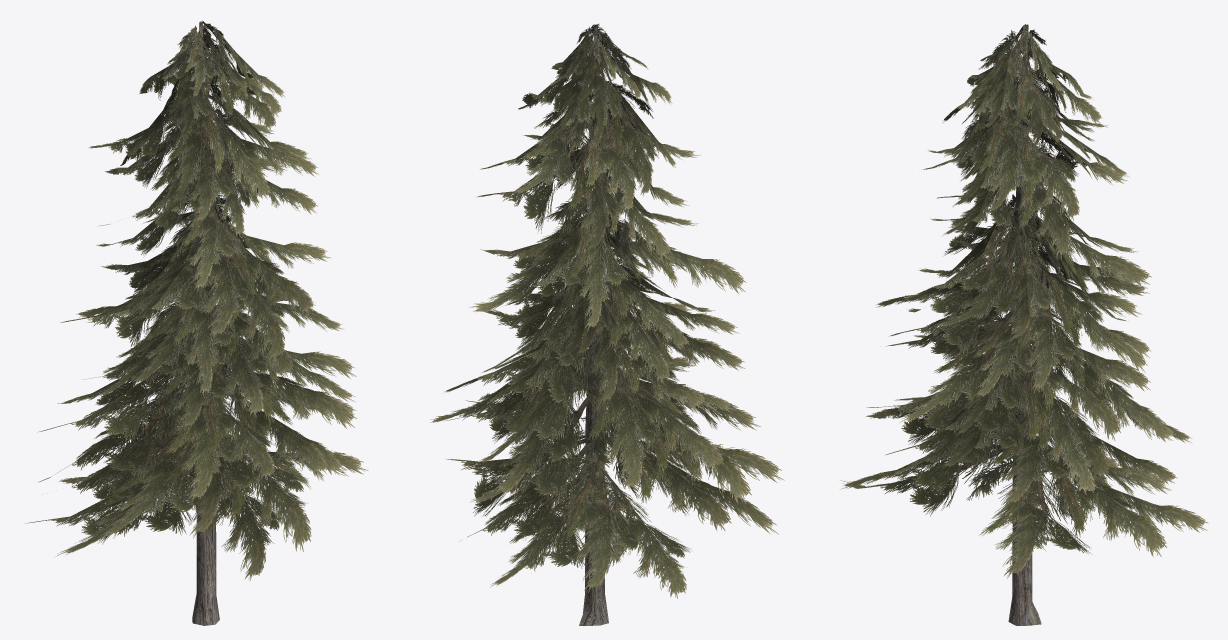
File: pine.glb
3 renders of one model, left to right at view 1: azimuth 30°, elevation 25°; view 2: azimuth 150°, elevation 25°; view 3: azimuth 270°, elevation 25°, orthographic.
Visible parts, largest first — view 1: pine; view 2: pine; view 3: pine.
Boxes of the visible parts, x1,y1,x2,y2 form: pine: (24, 20, 368, 625); pine: (430, 24, 784, 625); pine: (840, 24, 1208, 625).
Bounding box in the file's own units: 5.99 × 9.96 × 5.79.
Materials: 1 (1 with a texture image).
